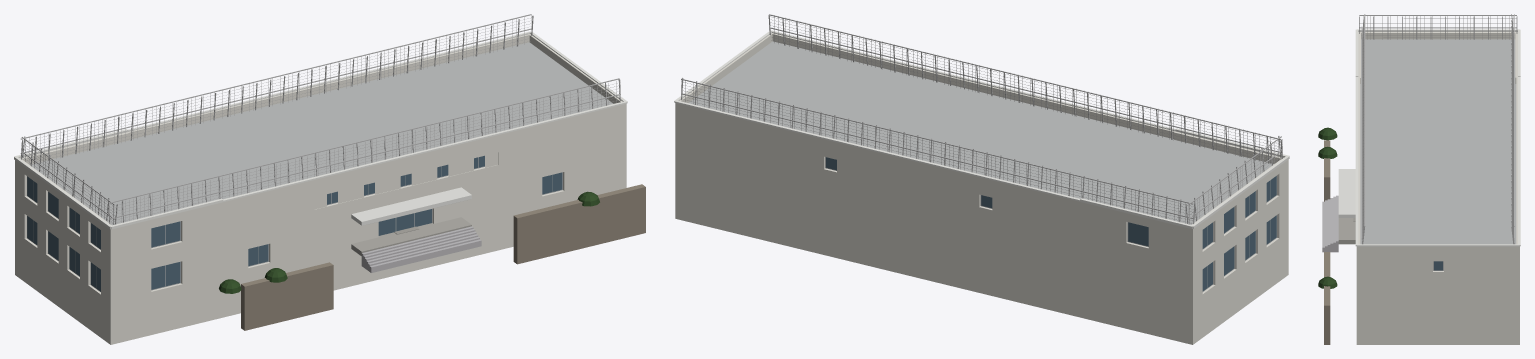
3 views of the same model, side by side, from view 1: azimuth 30°, elevation 25°; view 2: azimuth 150°, elevation 25°; view 3: azimuth 270°, elevation 25° (orthographic). The views are drawn at different scales.
Parts seen in each view (by area): view 1: s16__white-wall, s16__roof, s16__fence-steel, s16__rubble-stone-wall, s16__trim, s16__glass, s16__granite-stone-step, s16__canopy-white, s16__entrance-landing, s16__frame, s16__shrub, s16__door-glass; view 2: s16__white-wall, s16__roof, s16__fence-steel, s16__trim, s16__glass, s16__frame; view 3: s16__roof, s16__white-wall, s16__fence-steel, s16__trim, s16__rubble-stone-wall, s16__granite-stone-step, s16__canopy-white, s16__shrub, s16__entrance-landing.
Boxes of the visible parts, <box> form: s16__white-wall: <box>15,34,626,344</box>; s16__roof: <box>30,42,613,225</box>; s16__fence-steel: <box>20,14,620,224</box>; s16__rubble-stone-wall: <box>241,184,645,330</box>; s16__trim: <box>14,31,627,229</box>; s16__glass: <box>27,155,562,291</box>; s16__granite-stone-step: <box>361,226,481,272</box>; s16__canopy-white: <box>351,187,471,225</box>; s16__entrance-landing: <box>351,217,471,255</box>; s16__frame: <box>27,157,562,291</box>; s16__shrub: <box>219,191,599,293</box>; s16__door-glass: <box>378,209,431,235</box>; s16__white-wall: <box>675,33,1288,344</box>; s16__roof: <box>688,41,1273,224</box>; s16__fence-steel: <box>681,14,1282,224</box>; s16__trim: <box>674,30,1289,228</box>; s16__glass: <box>826,157,1276,290</box>; s16__frame: <box>825,157,1276,291</box>; s16__roof: <box>1360,39,1516,244</box>; s16__white-wall: <box>1356,32,1519,344</box>; s16__fence-steel: <box>1359,14,1517,244</box>; s16__trim: <box>1355,29,1520,246</box>; s16__rubble-stone-wall: <box>1324,140,1330,344</box>; s16__granite-stone-step: <box>1322,195,1338,252</box>; s16__canopy-white: <box>1338,169,1355,217</box>; s16__shrub: <box>1318,127,1337,288</box>; s16__entrance-landing: <box>1338,218,1355,244</box>.
Bounding box in the file's own units: 56.37 × 14.34 × 22.39.
